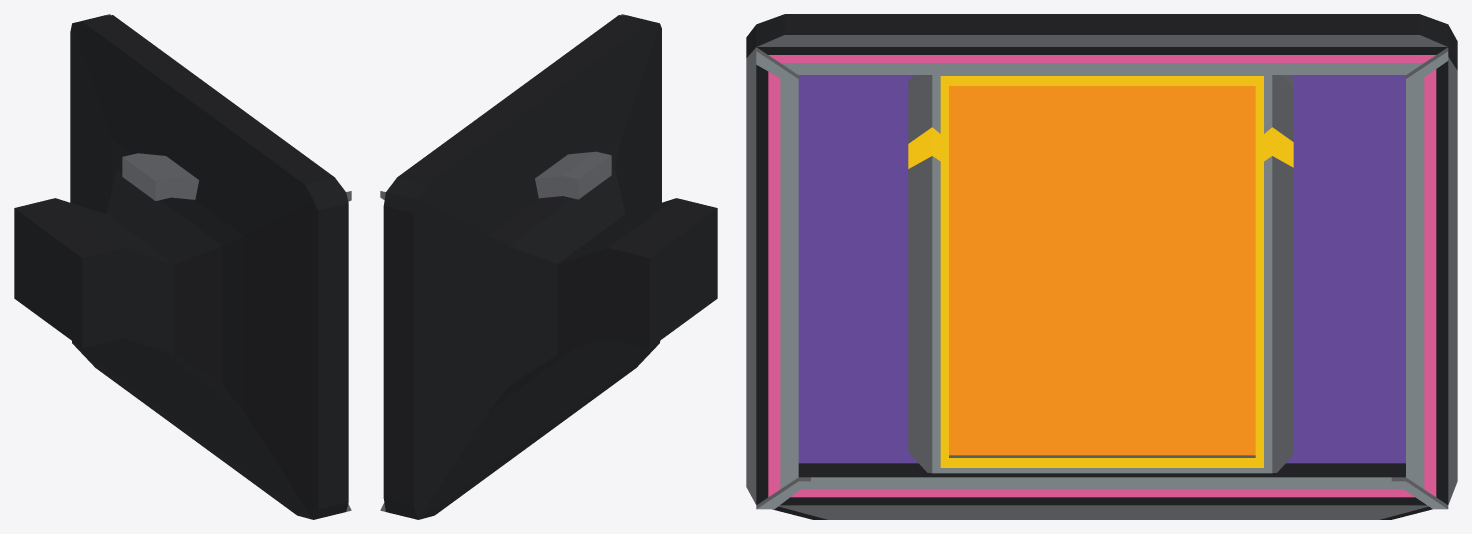
Rendered from Monitors.fbx.
3 renders of one model, left to right at view 1: azimuth 30°, elevation 25°; view 2: azimuth 150°, elevation 25°; view 3: azimuth 270°, elevation 25°, orthographic. The views are drawn at different scales.
Parts seen in each view (by area): view 1: Monitor_2, Monitor_1; view 2: Monitor_2, Monitor_1; view 3: Monitor_2, Monitor_1.
Boxes of the visible parts, <box> form: Monitor_2: <box>14,14,351,519</box>; Monitor_1: <box>122,153,198,200</box>; Monitor_2: <box>380,14,717,519</box>; Monitor_1: <box>535,151,611,199</box>; Monitor_2: <box>746,14,1457,519</box>; Monitor_1: <box>908,75,1293,473</box>.
Size of the model in its own units: 95.83 by 170 by 225.
